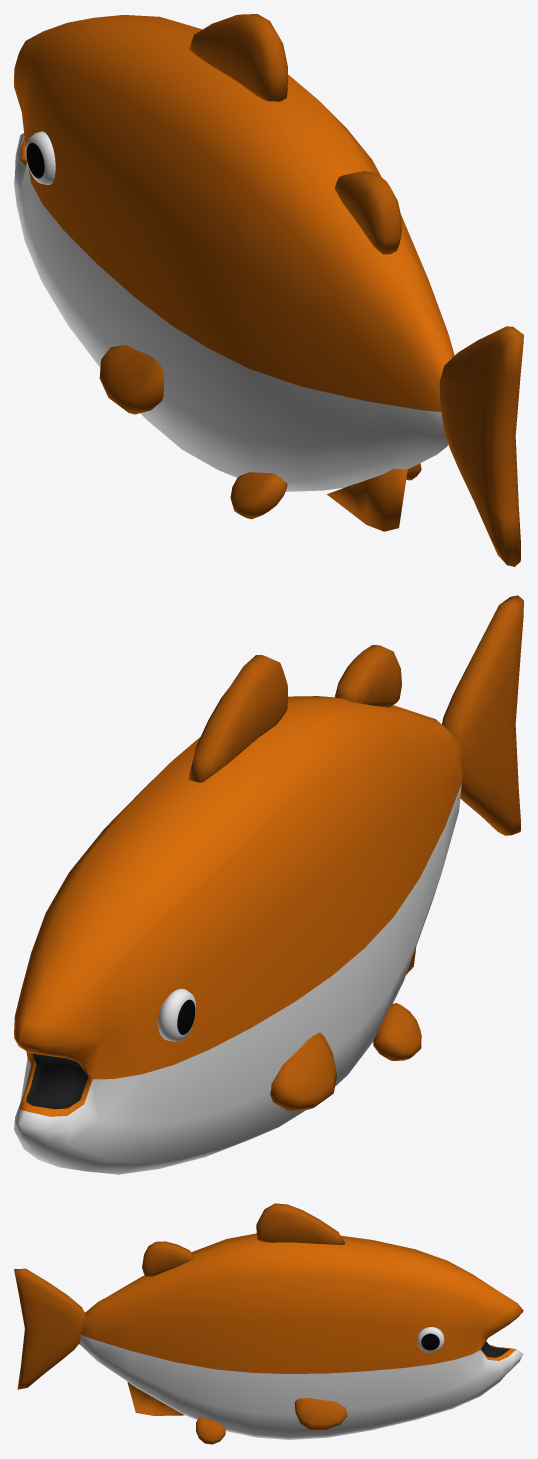
The model's file is Orange Fish.fbx.
3 views of the same model, one above another, from view 1: azimuth 30°, elevation 25°; view 2: azimuth 150°, elevation 25°; view 3: azimuth 270°, elevation 25° (orthographic). The views are drawn at different scales.
Visible parts, largest first — view 1: Cylinder.012; view 2: Cylinder.012; view 3: Cylinder.012.
Part boxes in pixels (<box>): Cylinder.012: <box>14,14,523,566</box>; Cylinder.012: <box>14,595,523,1174</box>; Cylinder.012: <box>14,1203,523,1444</box>.
Size of the model in its own units: 27.64 by 55.77 by 113.
